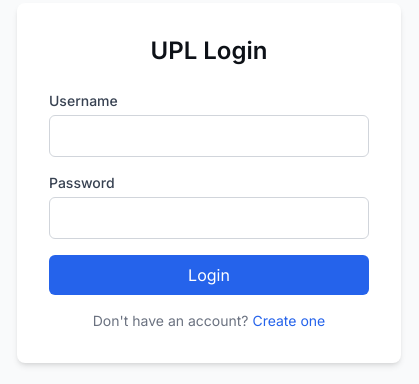
Test case: LoginPage › disables submit button while loading
Type "admin" into the field labelled "Username" at (209, 136), box [49,115,369,157]
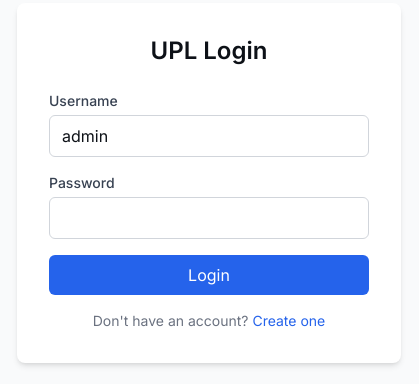
Type "pw" into the password field labelled "Password" at (209, 218), box [49,197,369,239]
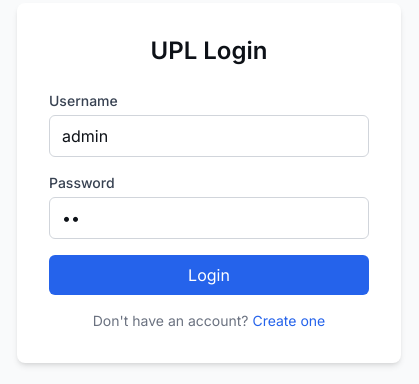
Click the button "Login" at (209, 275), box [49,255,369,295]
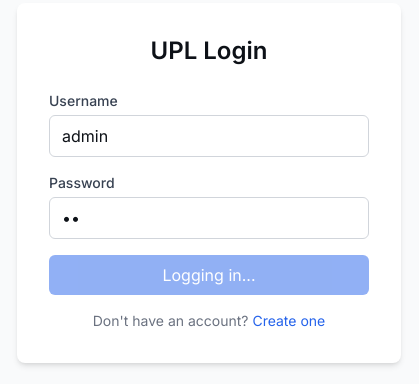
Result: the button "Logging in..." is disabled at [49,255,369,295]
